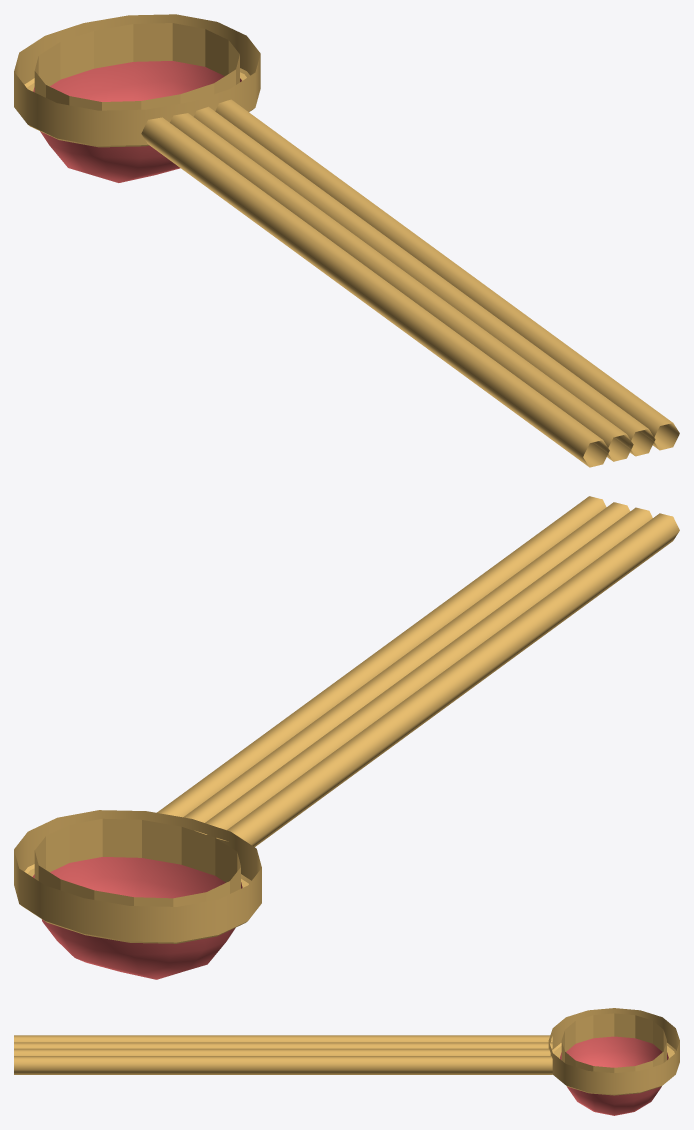
Rendered from lightB.fbx.
3 renders of one model, top to bottom at view 1: azimuth 30°, elevation 25°; view 2: azimuth 150°, elevation 25°; view 3: azimuth 270°, elevation 25°, orthographic. The views are drawn at different scales.
Parts seen in each view (by area): view 1: lightFrameA, lightEmitterA; view 2: lightFrameA, lightEmitterA; view 3: lightFrameA, lightEmitterA.
Boxes of the visible parts, box(x1,y1,x2,y2) form: lightFrameA: box(14, 14, 679, 467); lightEmitterA: box(33, 61, 241, 182); lightFrameA: box(14, 496, 679, 943); lightEmitterA: box(32, 857, 242, 979); lightFrameA: box(14, 1008, 679, 1095); lightEmitterA: box(560, 1036, 668, 1115).
Size of the model in its own units: 0.4234 by 0.1942 by 1.83.
